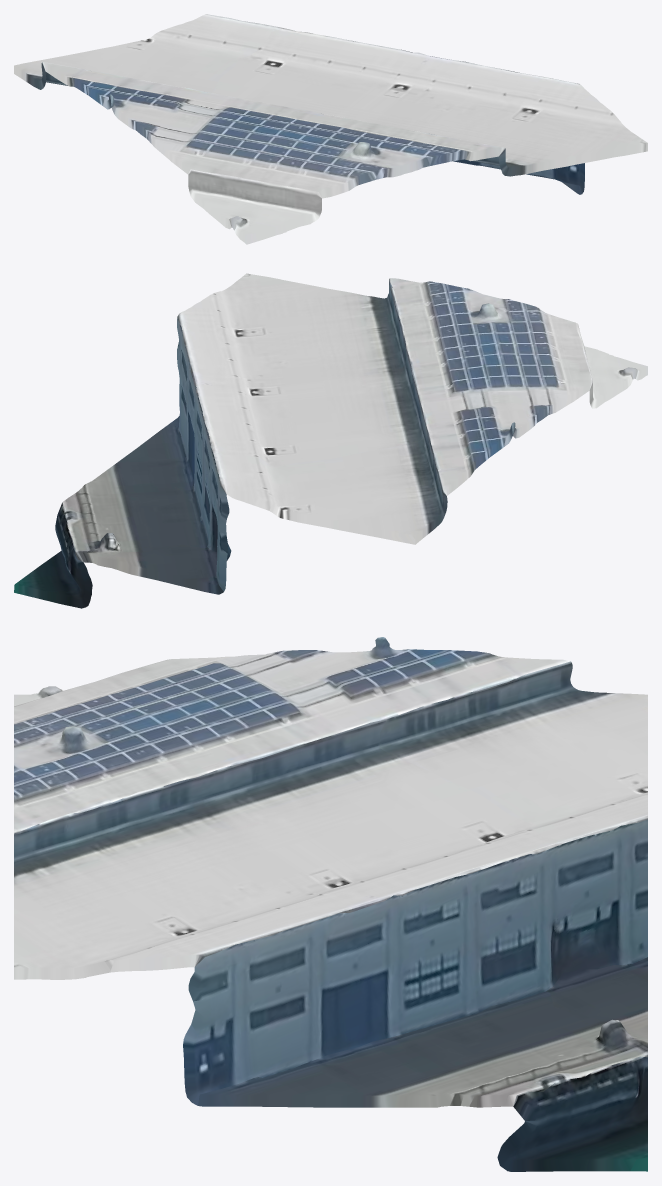
Rendered from z20-167787-405214-h0-yup-uvflip-v3-world.glb.
3 views of the same model, one above another, from view 1: azimuth 30°, elevation 25°; view 2: azimuth 150°, elevation 25°; view 3: azimuth 270°, elevation 25° (orthographic). The views are drawn at different scales.
Size of the model in its own units: 30.2 by 14.28 by 30.32.
1 material, 1 textured.
